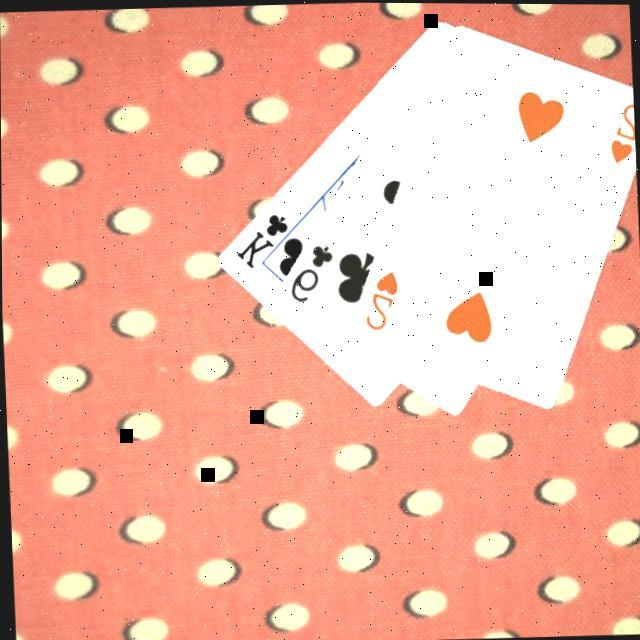2H: (360, 268, 404, 335), (605, 99, 635, 168)
6C: (285, 241, 338, 307)
KC: (232, 210, 306, 272)
